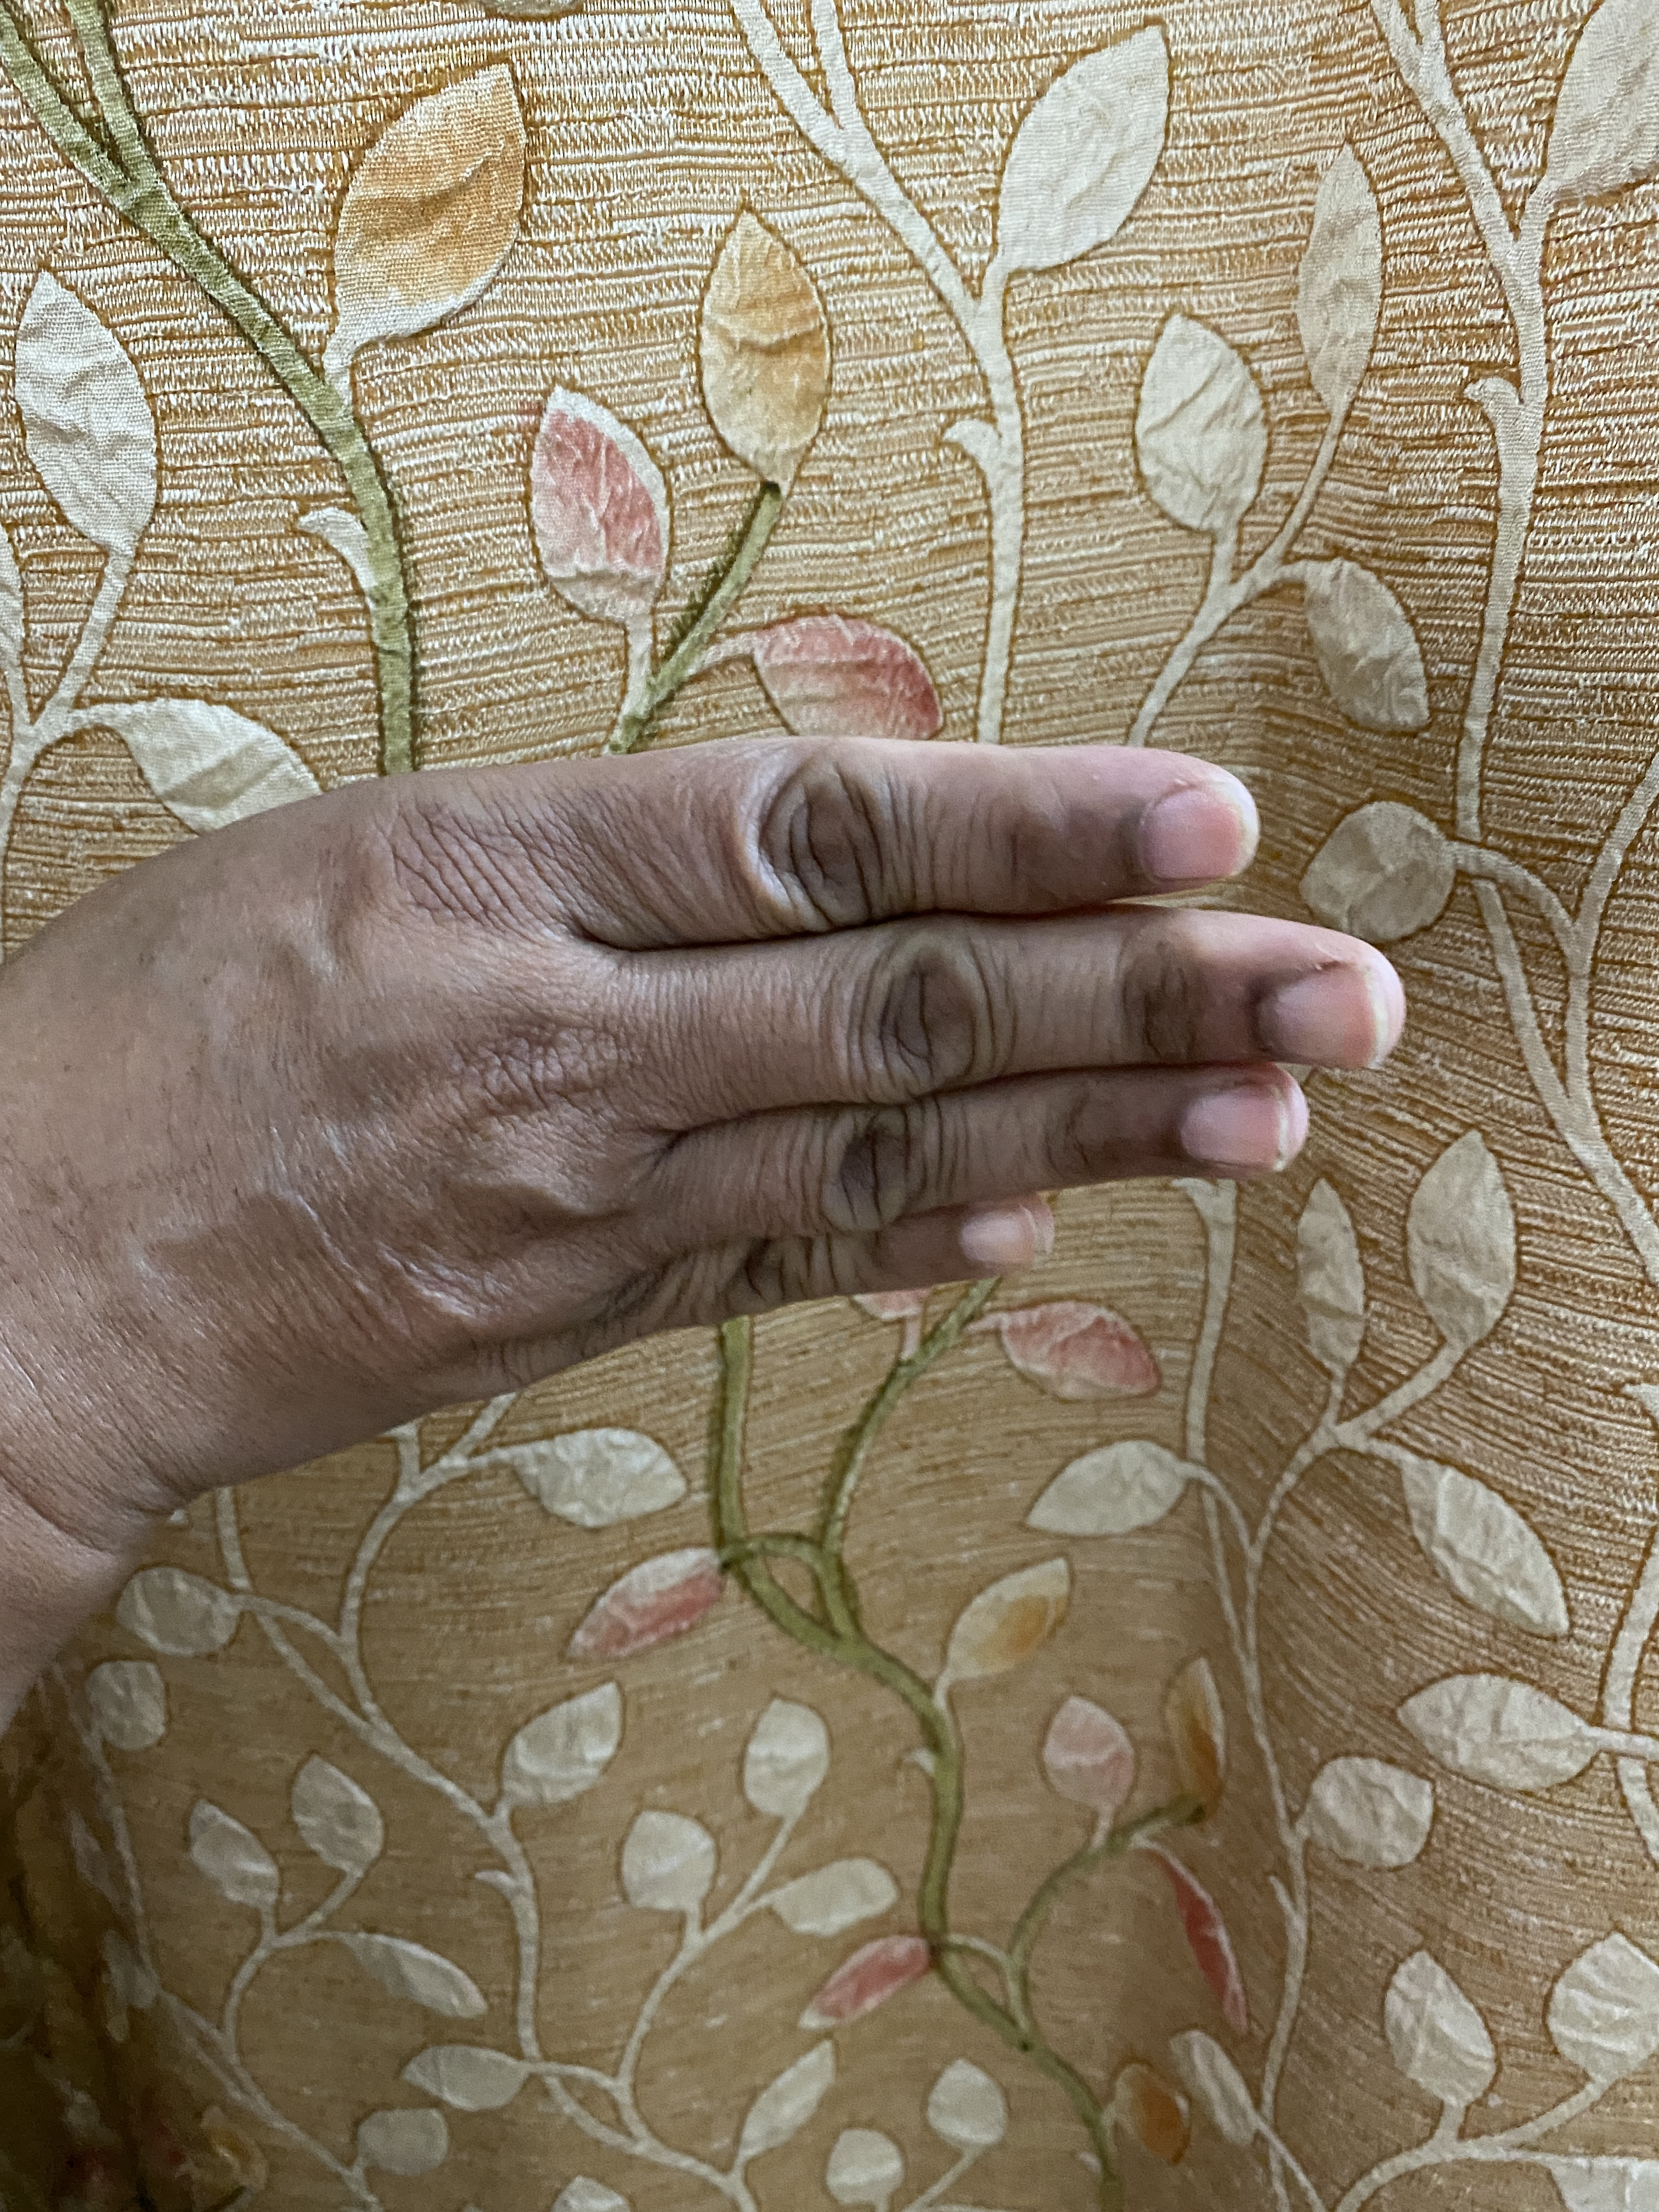left: (2, 658, 1547, 1813)
